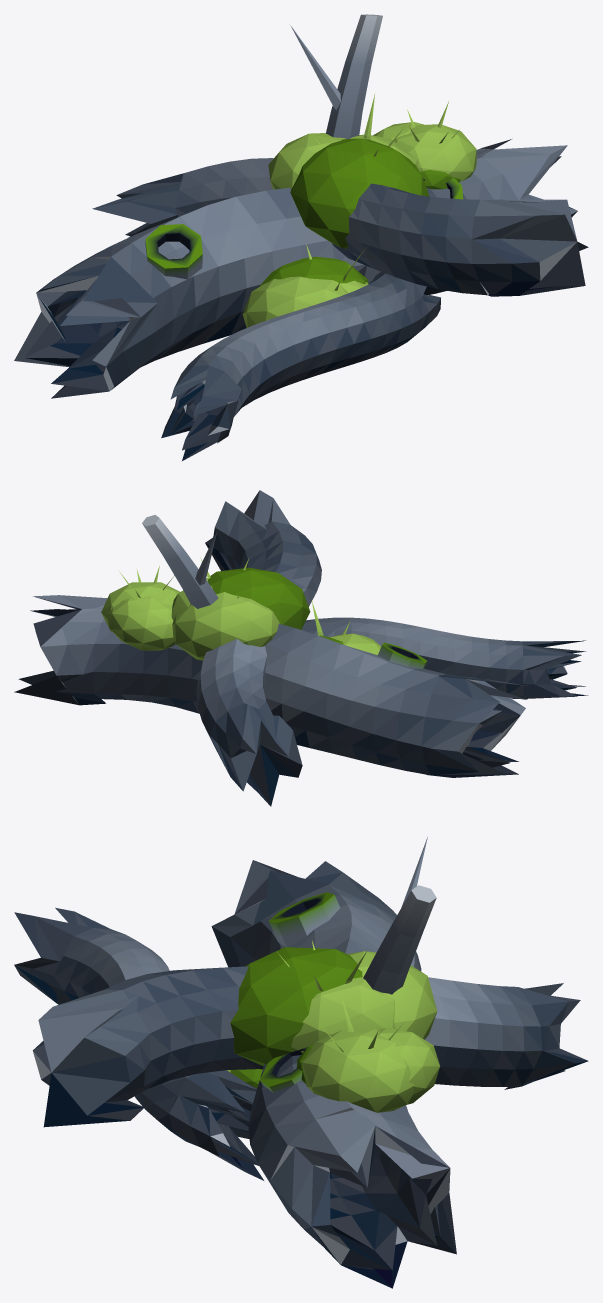
File: pohon_tumbang_logjam_driftwood_615355.glb
3 views of the same model, one above another, from view 1: azimuth 30°, elevation 25°; view 2: azimuth 150°, elevation 25°; view 3: azimuth 270°, elevation 25° (orthographic). The views are drawn at different scales.
Parts seen in each view (by area): view 1: Tumpukan_Kayu_Hanyut; view 2: Tumpukan_Kayu_Hanyut; view 3: Tumpukan_Kayu_Hanyut.
Part boxes in pixels (left/top/right/bottom): Tumpukan_Kayu_Hanyut: left=14, top=14, right=588, bottom=460; Tumpukan_Kayu_Hanyut: left=14, top=490, right=588, bottom=806; Tumpukan_Kayu_Hanyut: left=14, top=836, right=588, bottom=1288.
Size of the model in its own units: 4.63 by 2.08 by 3.45.
